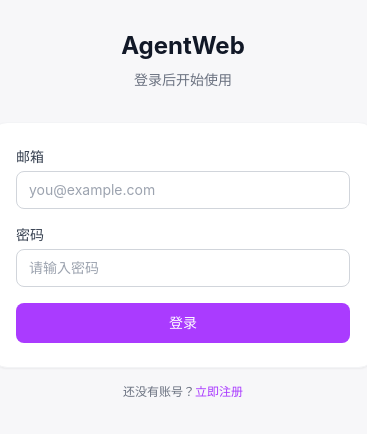
it: LoginPage › 本地校验不通过时不发请求
In the field labelled "邮箱": x=183, y=190 [16,171,350,209], type "not-an-email"
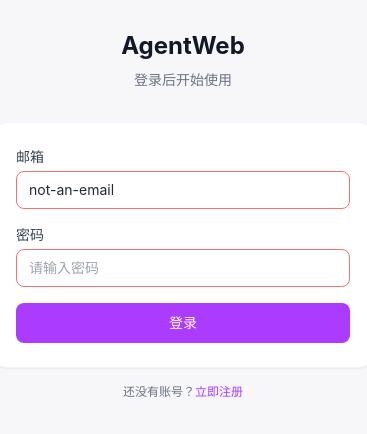
Submit the form "登录", box [16,147,350,343]
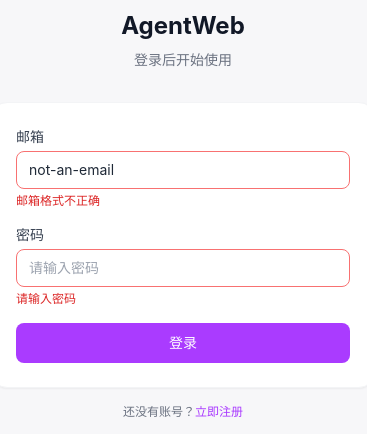
expect the text "邮箱格式不正确" is shown: met, box [16,193,100,208]
expect the text "请输入密码" is shown: met, box [16,291,76,306]
